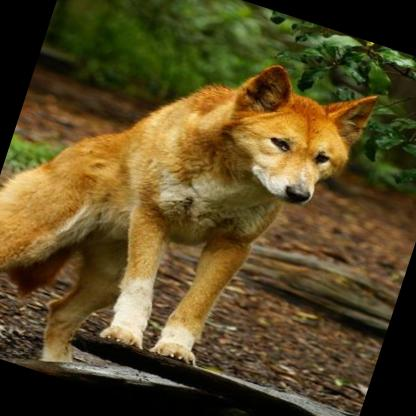dingo: (0, 0, 378, 416)
